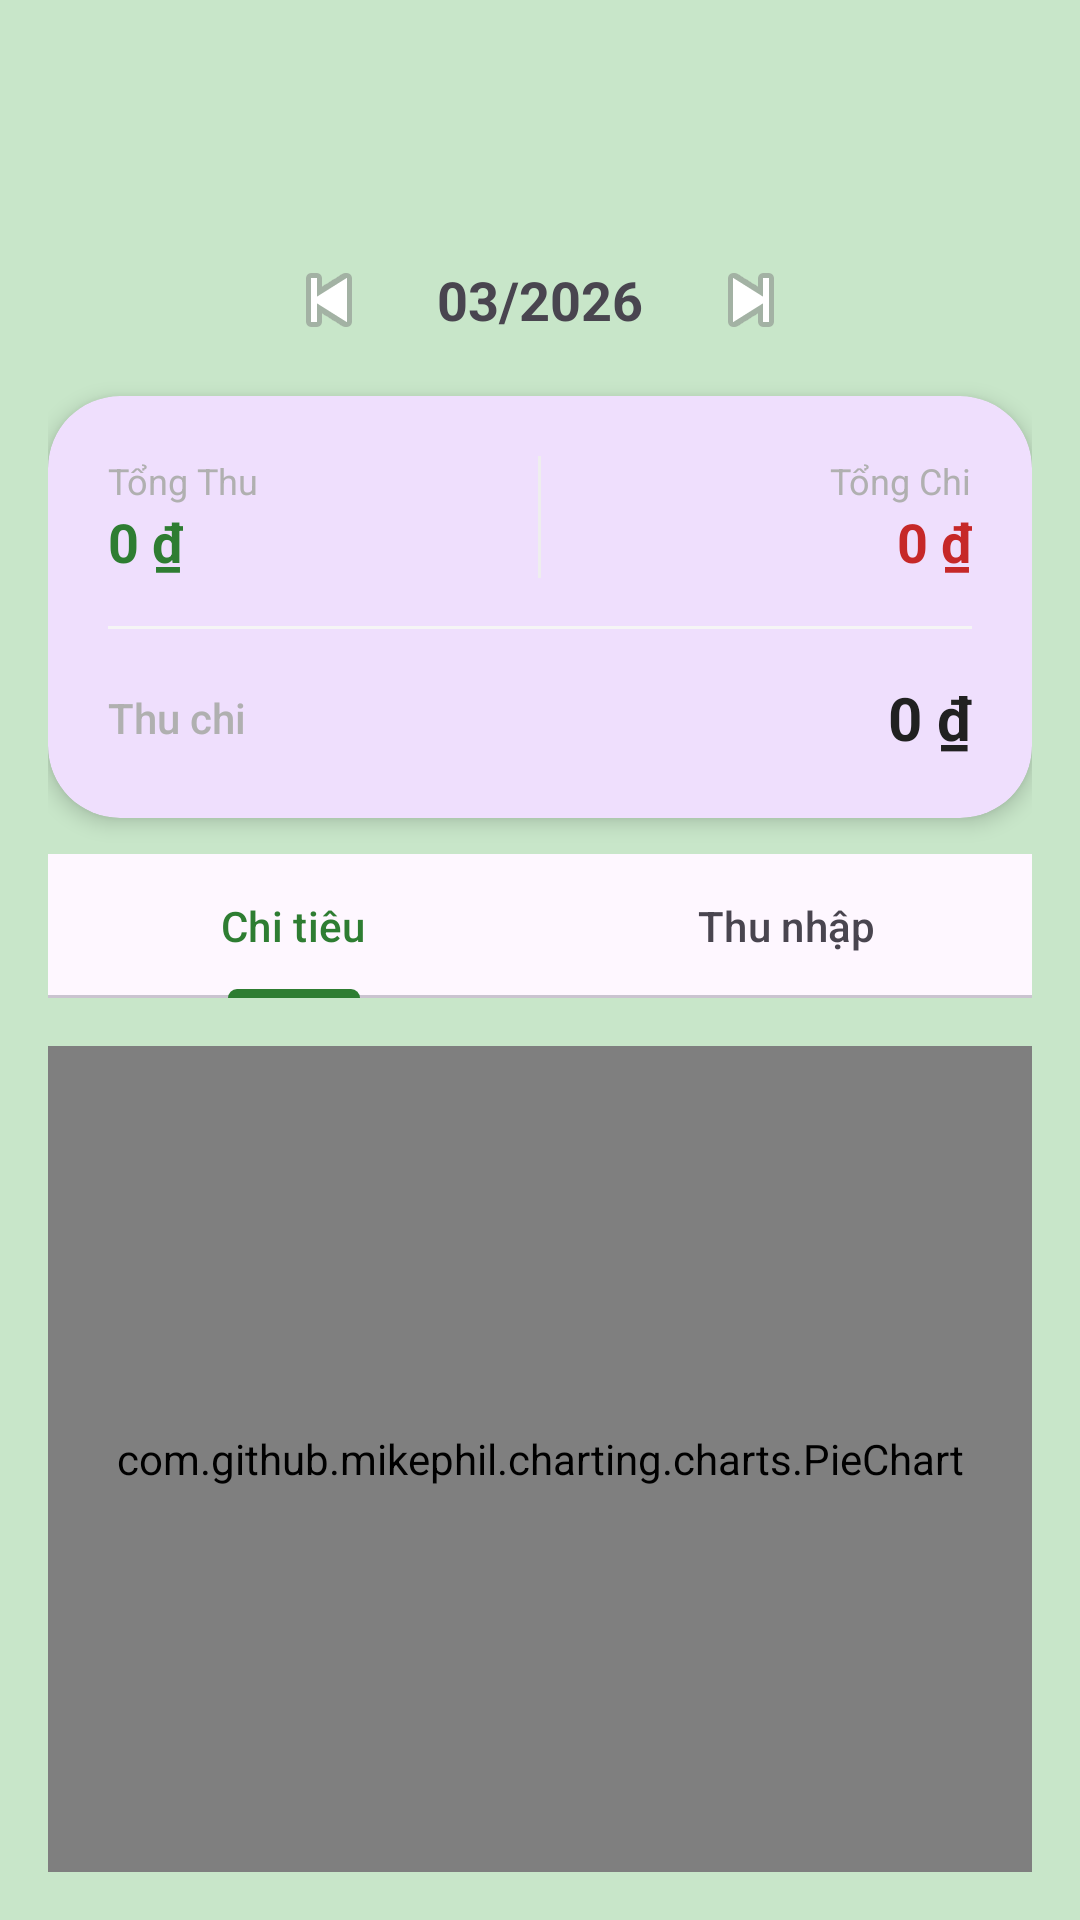

Icons on this 1080 × 1920 Android screen, each with its box as region(x1, y1, x2, y2):
next: region(728, 273, 774, 327)
previous: region(306, 273, 352, 327)
